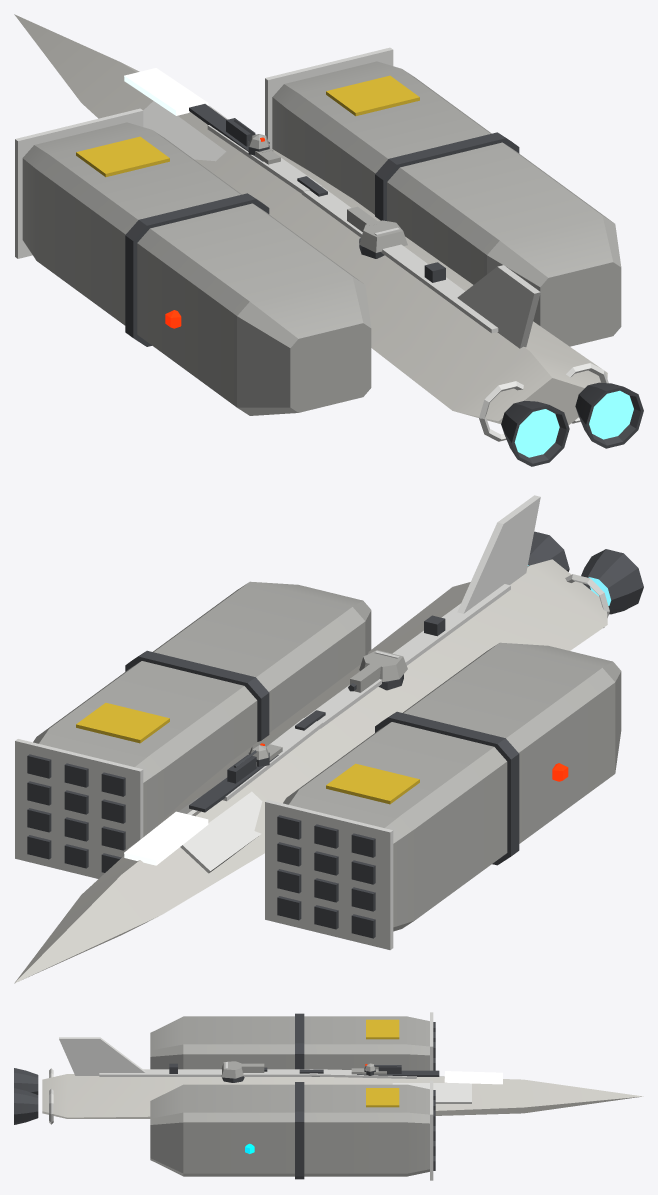
The model's file is missile_boat.glb.
3 views of the same model, one above another, from view 1: azimuth 30°, elevation 25°; view 2: azimuth 150°, elevation 25°; view 3: azimuth 270°, elevation 25° (orthographic). The views are drawn at different scales.
Parts seen in each view (by area): view 1: Hull, Turret_5; view 2: Hull, Turret_5; view 3: Hull, Turret_5.
Boxes of the visible parts, bbox=[...] form: Hull: bbox=[14, 14, 643, 466]; Turret_5: bbox=[359, 220, 407, 258]; Hull: bbox=[14, 495, 643, 983]; Turret_5: bbox=[348, 650, 407, 691]; Hull: bbox=[14, 1012, 643, 1180]; Turret_5: bbox=[221, 1061, 267, 1082].
Size of the model in its own units: 0.8172 by 0.3228 by 2.
